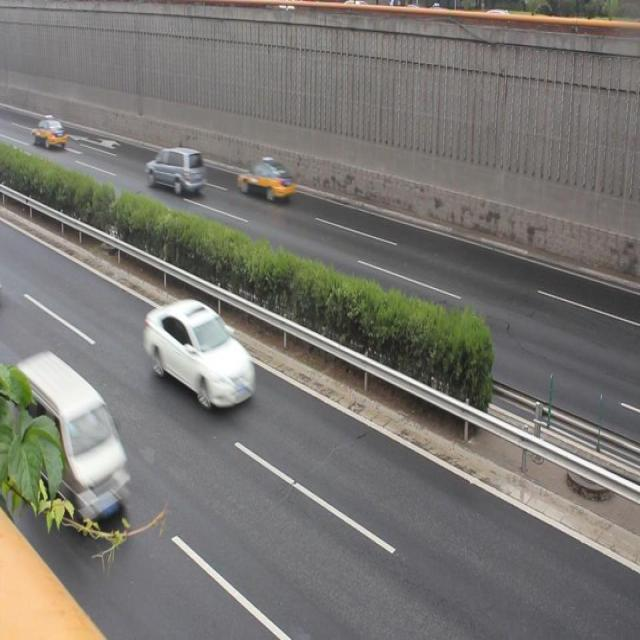car: (144, 298, 256, 408), (237, 159, 295, 202)
truck: (18, 357, 130, 525), (145, 145, 205, 195)
